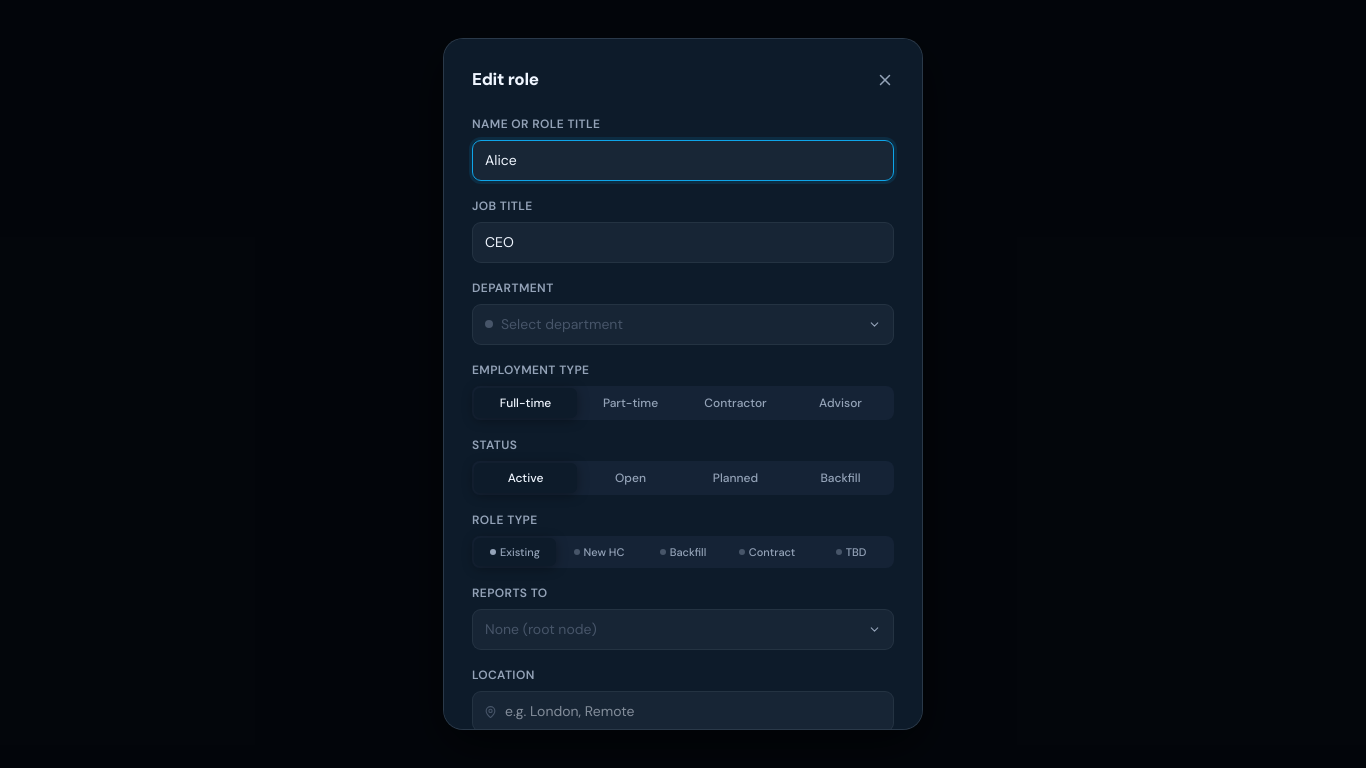
Test: edit mode › excludes the node being edited from the Reports To options
The image size is (1366, 768).
Open the Reports To dropdown
What coordinates should you click on to do the following:
click the button "None (root node)"
I would click on:
 (541, 629)
Its box is [472,609,894,650].
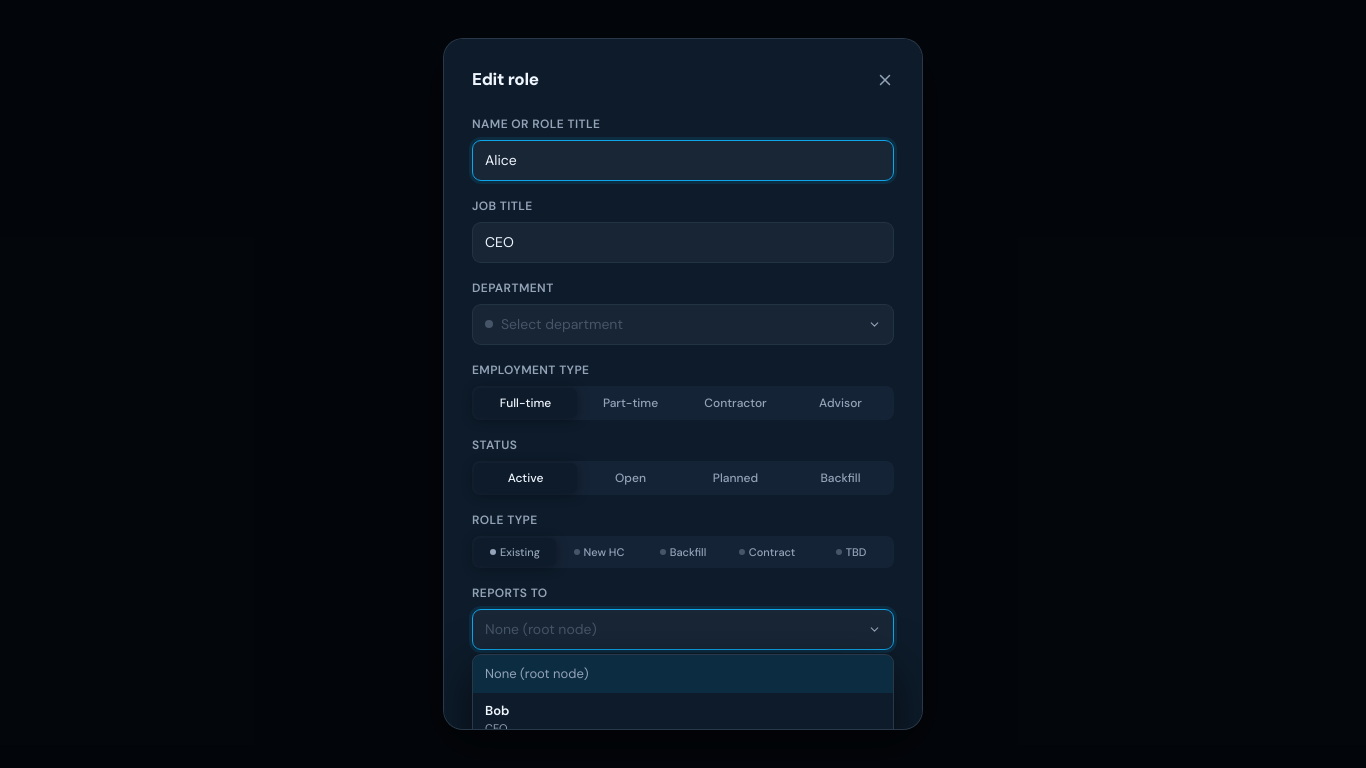
Now the text "Bob" is shown, box [485,701,509,720]
